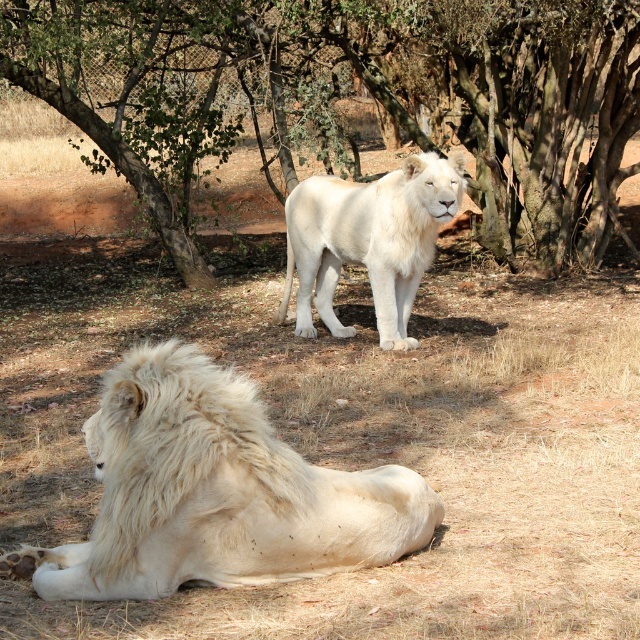Lion: (1, 336, 445, 600), (276, 151, 471, 355)
